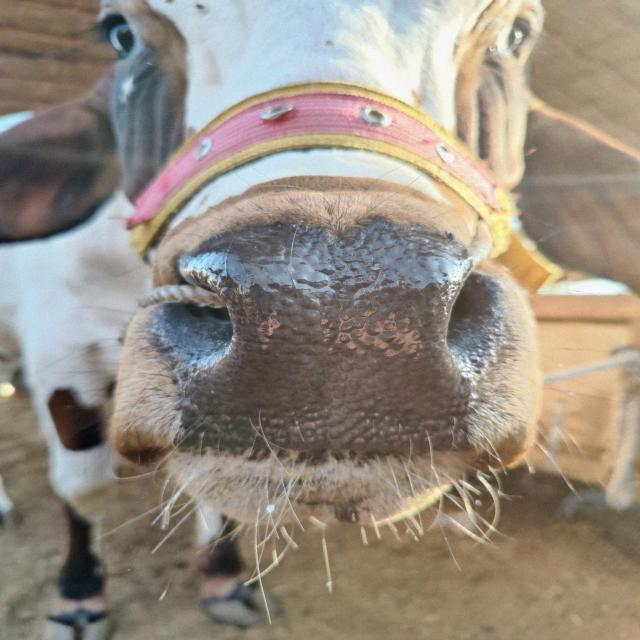muzzles: (154, 217, 511, 480)
